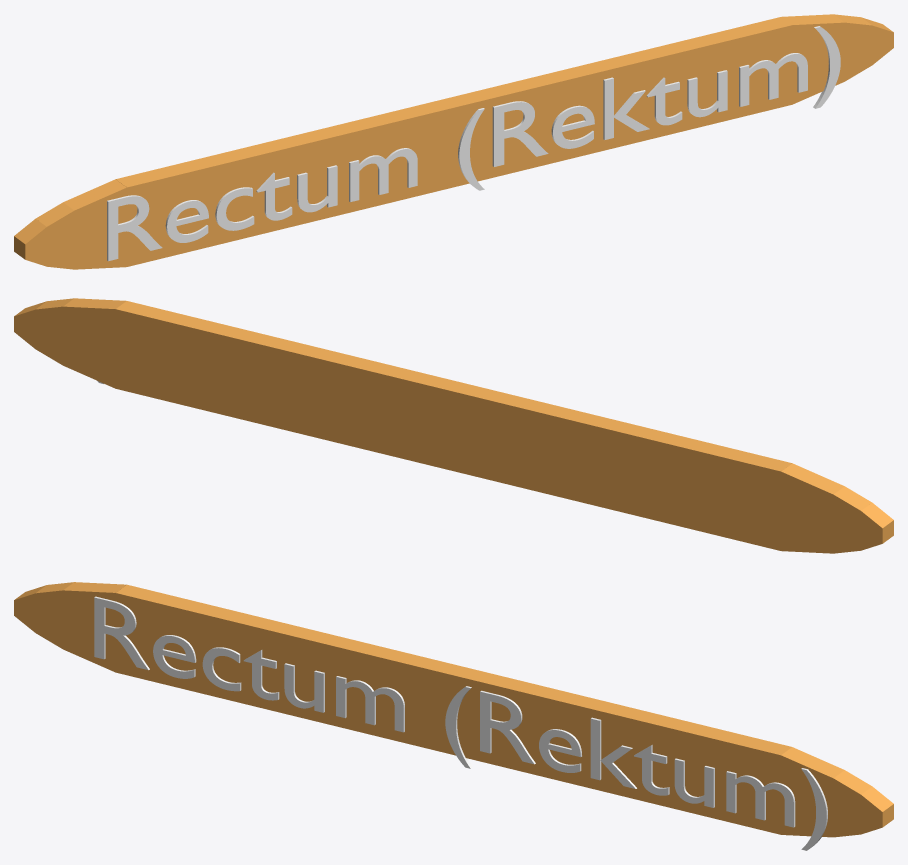
File: txtRectum.fbx
The picture shows the model from 3 angles, top to bottom: view 1: azimuth 30°, elevation 25°; view 2: azimuth 150°, elevation 25°; view 3: azimuth 330°, elevation 25°; orthographic projection.
Parts seen in each view (by area): view 1: TagContainer.072, Text.073; view 2: TagContainer.072; view 3: TagContainer.072, Text.073.
Boxes of the visible parts, x1=… form: TagContainer.072: x1=14, y1=14, x2=893, y2=269; Text.073: x1=107, y1=26, x2=840, y2=261; TagContainer.072: x1=14, y1=298, x2=893, y2=553; TagContainer.072: x1=14, y1=582, x2=893, y2=837; Text.073: x1=94, y1=596, x2=827, y2=850.
Bounding box in the file's own units: 472 × 45.66 × 11.92.
